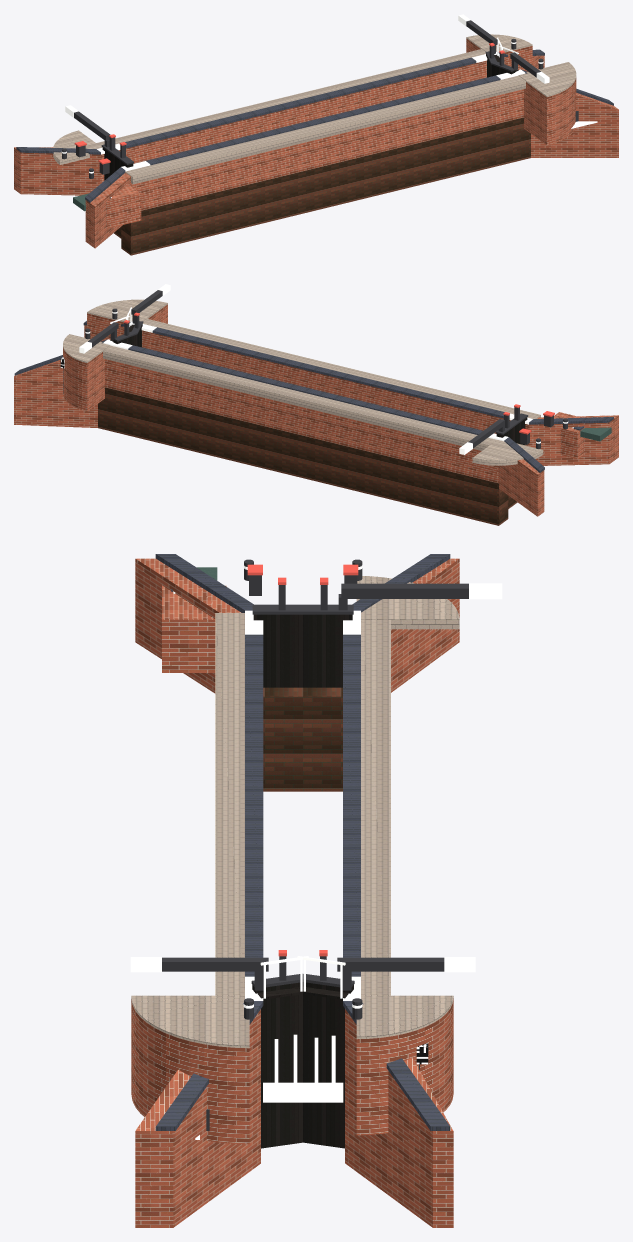
The model's file is lock-27.glb.
The picture shows the model from 3 angles, top to bottom: view 1: azimuth 30°, elevation 25°; view 2: azimuth 150°, elevation 25°; view 3: azimuth 270°, elevation 25°; orthographic projection. The views are drawn at different scales.
Parts seen in each view (by area): view 1: Chamber, ChamberWet, Edge, Coping.001, TopGateCap, Coping, TopGate; view 2: Chamber, ChamberWet, Edge, Coping.001, TopGateCap, Coping, TopGate, WeirWater; view 3: Chamber, Edge, Coping.001, TopGate, TopGateCap, ChamberWet, Coping, Leak.
Part boxes in pixels (<box>): Chamber: <box>14,38,618,248</box>; ChamberWet: <box>114,117,530,255</box>; Edge: <box>53,34,576,184</box>; Coping.001: <box>16,49,613,202</box>; TopGateCap: <box>62,20,578,178</box>; Coping: <box>61,14,549,173</box>; TopGate: <box>102,54,518,180</box>; Chamber: <box>14,304,618,516</box>; ChamberWet: <box>98,387,517,525</box>; Edge: <box>63,299,543,465</box>; Coping.001: <box>14,321,613,472</box>; TopGateCap: <box>63,290,567,448</box>; Coping: <box>79,284,568,454</box>; TopGate: <box>110,324,527,445</box>; WeirWater: <box>580,427,611,441</box>; Chamber: <box>131,558,459,1227</box>; Edge: <box>131,576,459,1048</box>; Coping.001: <box>155,554,450,1130</box>; TopGate: <box>252,614,353,1148</box>; TopGateCap: <box>162,559,468,1130</box>; ChamberWet: <box>263,687,342,791</box>; Coping: <box>130,565,502,1008</box>; Leak: <box>173,591,343,1139</box>.
Size of the model in its own units: 31.8 by 5.78 by 9.74.
11 materials, 8 textured.
